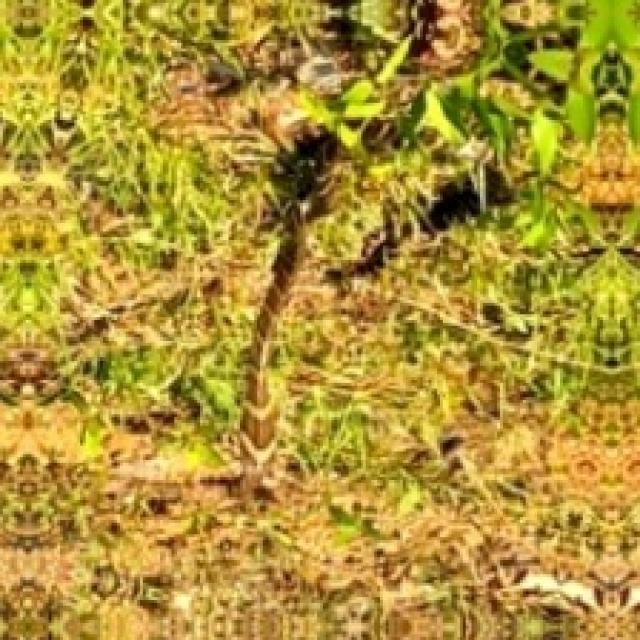king cobra: (111, 216, 302, 502)
